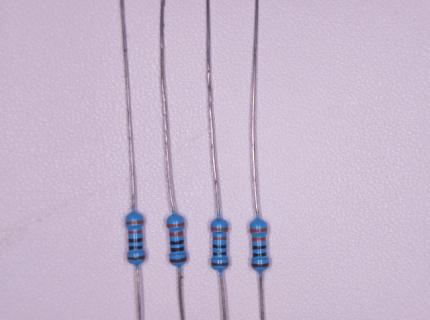Black band: (171, 240, 184, 245), (171, 247, 184, 252), (129, 239, 143, 243), (129, 246, 143, 250), (253, 253, 267, 257), (213, 252, 226, 256), (253, 246, 266, 250), (213, 245, 226, 248)
Brown band: (169, 257, 186, 263), (251, 263, 269, 268), (128, 255, 145, 260), (211, 263, 228, 266)
Orange band: (250, 227, 267, 233), (168, 223, 184, 228), (211, 226, 227, 231), (169, 231, 183, 236), (252, 237, 266, 242), (126, 221, 143, 225), (129, 230, 143, 234), (213, 237, 226, 240)
